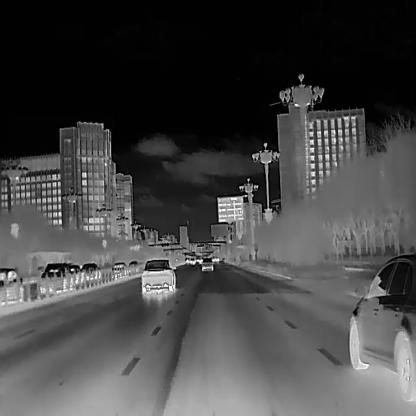car: (348, 253, 415, 403), (141, 258, 176, 292), (39, 261, 71, 291), (0, 266, 24, 304), (79, 262, 102, 282), (67, 262, 81, 284), (111, 262, 126, 274), (202, 256, 213, 271), (127, 260, 139, 271), (190, 258, 196, 264)
